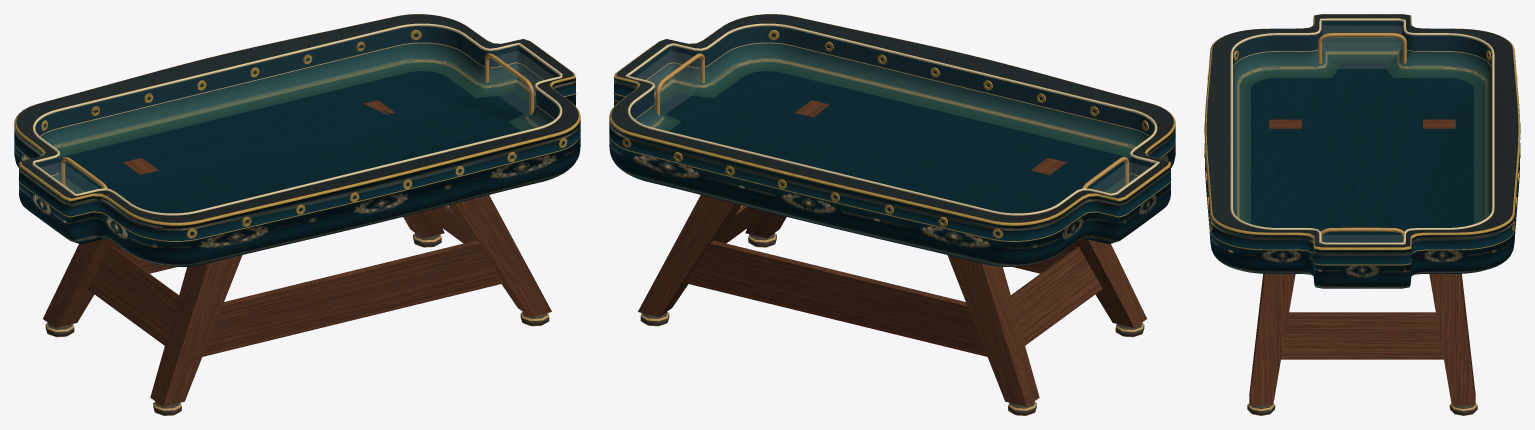
File: fuzeball_table_arena_federation.glb
3 renders of one model, left to right at view 1: azimuth 30°, elevation 25°; view 2: azimuth 150°, elevation 25°; view 3: azimuth 270°, elevation 25°, orthographic. The views are drawn at different scales.
Visible parts, largest first — view 1: arena_bowl.001, table_leg_.001, off_led_ring.001, goal_net_right.001, goal_net_left.001, goal_frame_l.002; view 2: arena_bowl.001, table_leg_.001, off_led_ring.001, goal_net_right.001, goal_net_left.001, goal_frame_l.002; view 3: arena_bowl.001, table_leg_.001, off_led_ring.001, goal_net_left.001, goal_net_right.001, goal_frame_r.001, goal_frame_l.002.
Part boxes in pixels (left/top/right/bottom): arena_bowl.001: left=14, top=14, right=580, bottom=266; table_leg_.001: left=43, top=100, right=551, bottom=415; off_led_ring.001: left=32, top=23, right=562, bottom=215; goal_net_right.001: left=490, top=51, right=553, bottom=113; goal_net_left.001: left=40, top=162, right=98, bottom=193; goal_frame_l.002: left=485, top=53, right=533, bottom=115; arena_bowl.001: left=609, top=14, right=1175, bottom=266; table_leg_.001: left=638, top=100, right=1146, bottom=415; off_led_ring.001: left=625, top=23, right=1159, bottom=215; goal_net_right.001: left=636, top=51, right=699, bottom=113; goal_net_left.001: left=1091, top=162, right=1149, bottom=193; goal_frame_l.002: left=655, top=53, right=704, bottom=115; arena_bowl.001: left=1204, top=14, right=1520, bottom=288; table_leg_.001: left=1247, top=119, right=1477, bottom=415; off_led_ring.001: left=1230, top=18, right=1494, bottom=244; goal_net_left.001: left=1323, top=26, right=1401, bottom=68; goal_net_right.001: left=1323, top=235, right=1401, bottom=242; goal_frame_r.001: left=1318, top=33, right=1406, bottom=64; goal_frame_l.002: left=1321, top=227, right=1404, bottom=242.
Bounding box in the file's own units: 145 × 56.63 × 82.32.
Materials: 15 (8 with a texture image).
